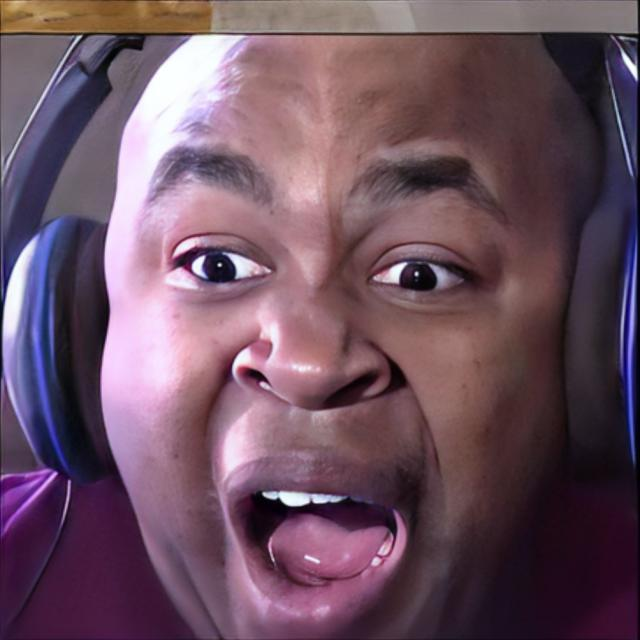fear: (99, 34, 562, 639)
